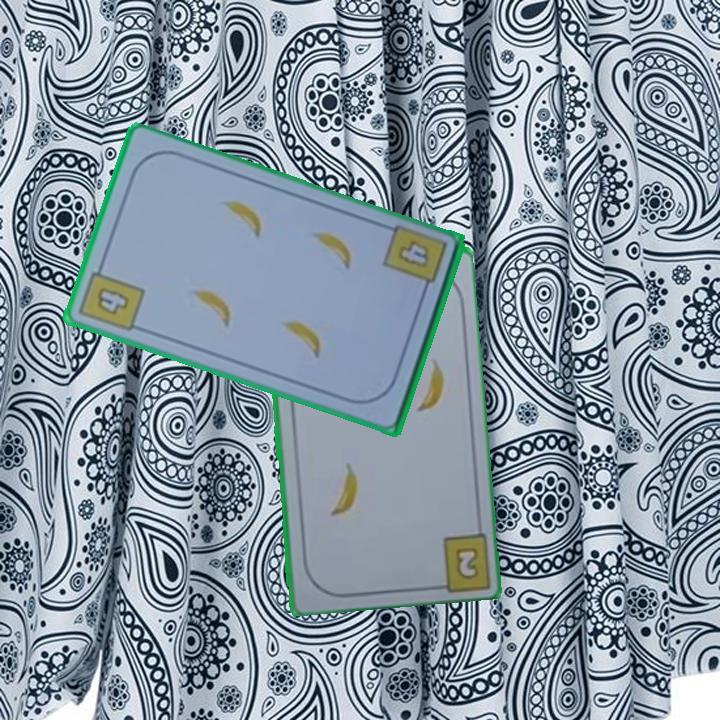2b: (451, 543, 482, 583)
4b: (75, 258, 148, 336), (394, 237, 432, 272)
